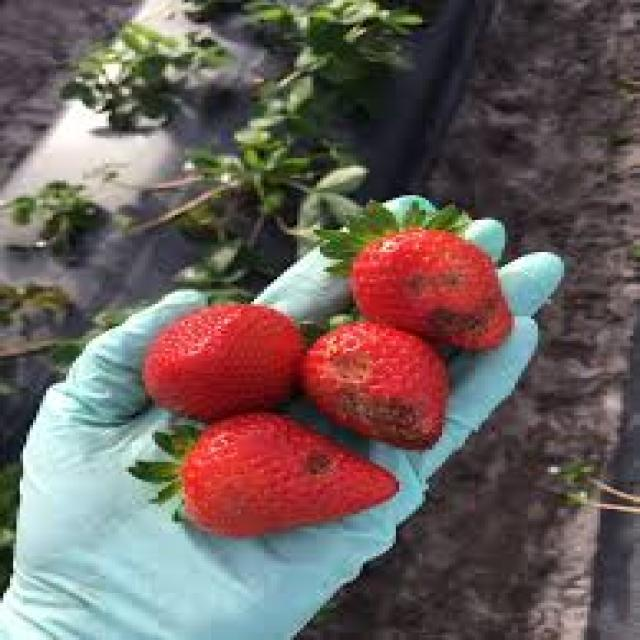Fruta sana: (136, 312, 301, 415)
Mancha negra Antracnosis: (167, 421, 411, 534), (354, 234, 521, 346), (314, 315, 448, 451)
